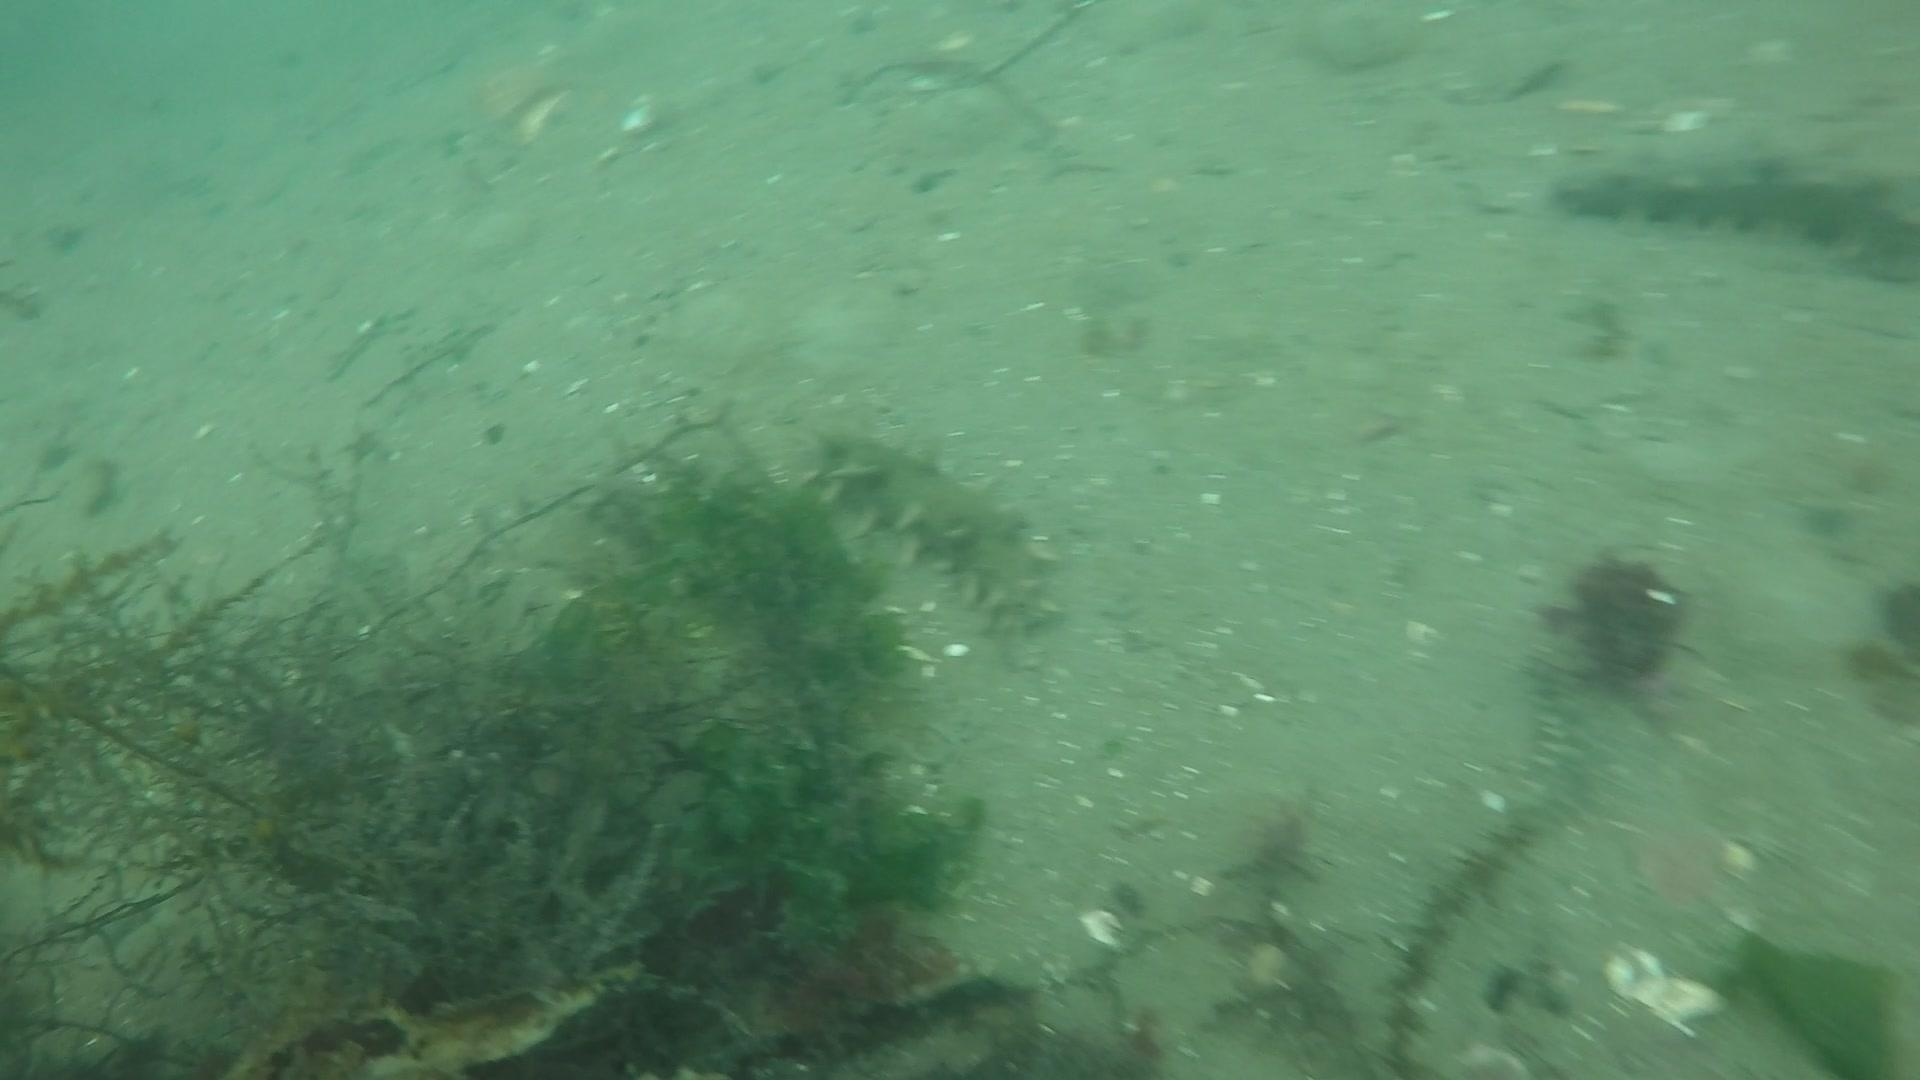holothurian: (802, 417, 1069, 638), (1547, 129, 1920, 284)
